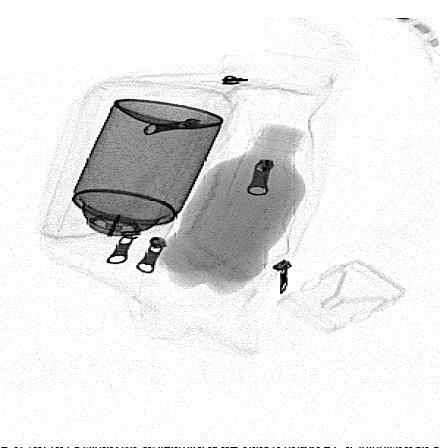Sprayer: (54, 99, 225, 262)
